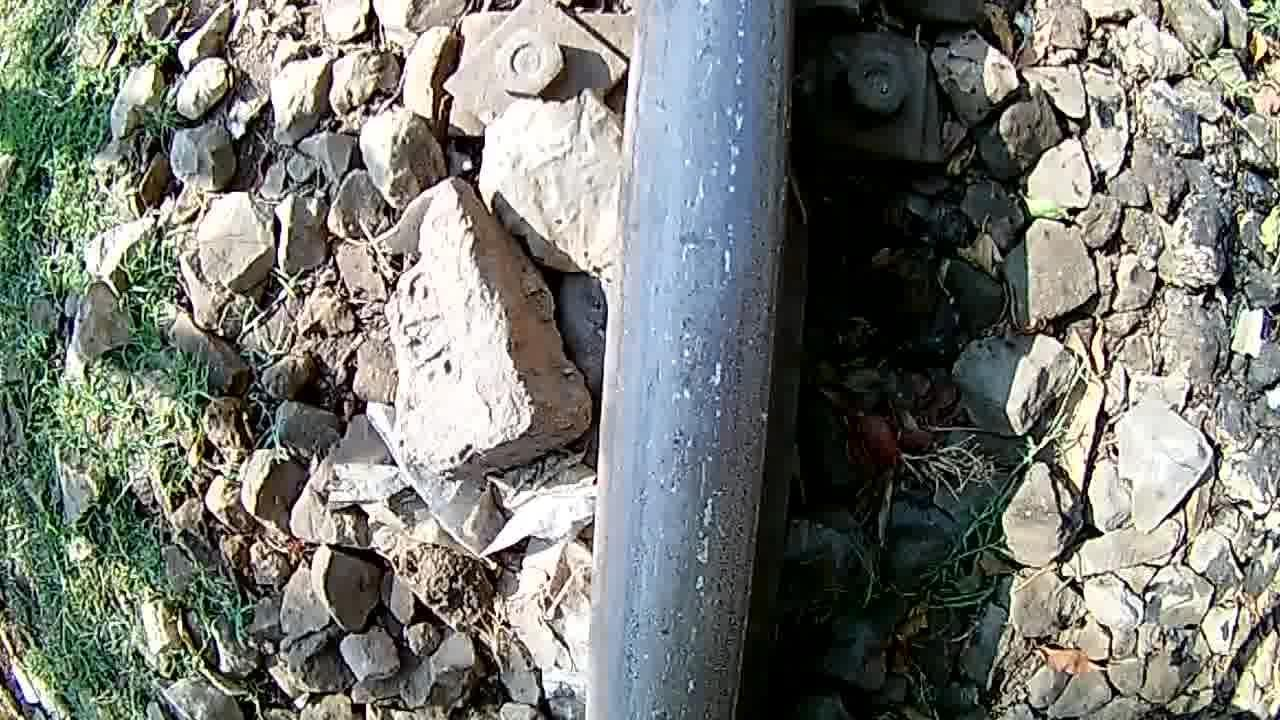crack: (584, 0, 802, 720)
